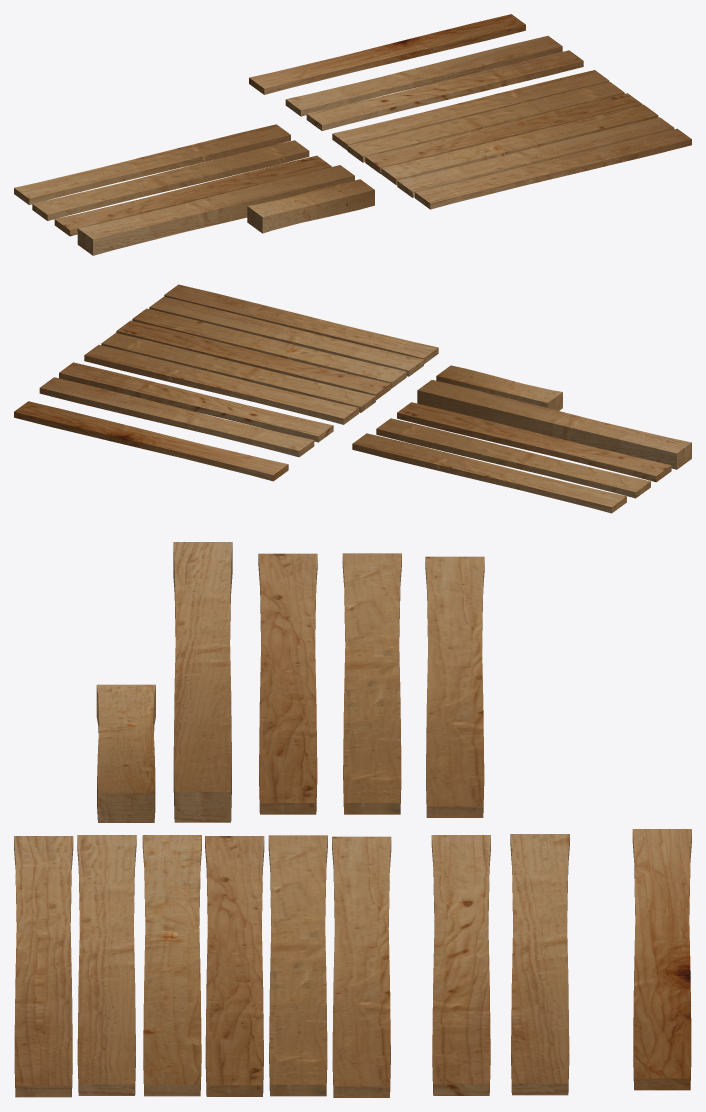
File: ConstructionWood.glb
The picture shows the model from 3 angles, top to bottom: view 1: azimuth 30°, elevation 25°; view 2: azimuth 150°, elevation 25°; view 3: azimuth 270°, elevation 25°; orthographic projection. The views are drawn at different scales.
Parts seen in each view (by area): view 1: Board, Board.001, Board.006, Board.004, Board.002, Board.003, Board.005, Board.007; view 2: Board, Board.001, Board.006, Board.005, Board.003, Board.004, Board.002, Board.007; view 3: Board, Board.001, Board.006, Board.003, Board.004, Board.005, Board.002, Board.007.
Boxes of the visible parts, <box> form: Board: <box>332,70,691,209</box>; Board.001: <box>285,36,583,130</box>; Board.006: <box>77,165,354,255</box>; Board.004: <box>32,140,309,220</box>; Board.002: <box>249,14,525,94</box>; Board.003: <box>14,124,290,204</box>; Board.005: <box>54,155,331,236</box>; Board.007: <box>247,179,374,233</box>; Board: <box>84,284,438,424</box>; Board.001: <box>39,362,333,457</box>; Board.006: <box>417,380,691,469</box>; Board.005: <box>397,402,671,482</box>; Board.003: <box>352,433,626,513</box>; Board.004: <box>376,418,650,498</box>; Board.002: <box>14,401,288,481</box>; Board.007: <box>436,365,562,410</box>; Board: <box>14,835,391,1097</box>; Board.001: <box>431,834,569,1095</box>; Board.006: <box>173,542,232,822</box>; Board.003: <box>425,556,484,817</box>; Board.004: <box>342,553,401,814</box>; Board.005: <box>258,553,317,814</box>; Board.002: <box>632,829,691,1090</box>; Board.007: <box>96,684,155,822</box>.
Size of the model in its own units: 9.72 by 0.273 by 5.23.
Materials: 1 (1 with a texture image).
